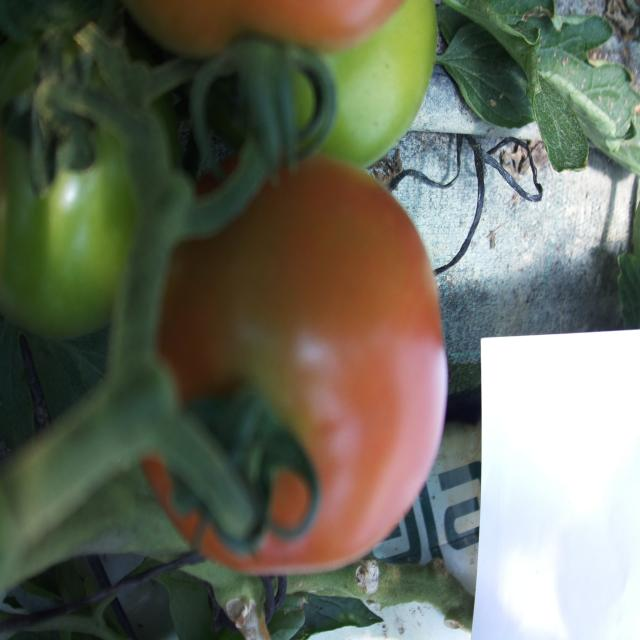kirmizi: (156, 152, 459, 562)
